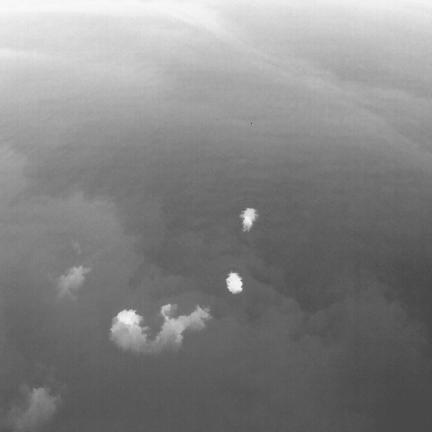flukeprints: (157, 305, 211, 345), (239, 208, 258, 231), (115, 310, 142, 326), (226, 272, 242, 294)
